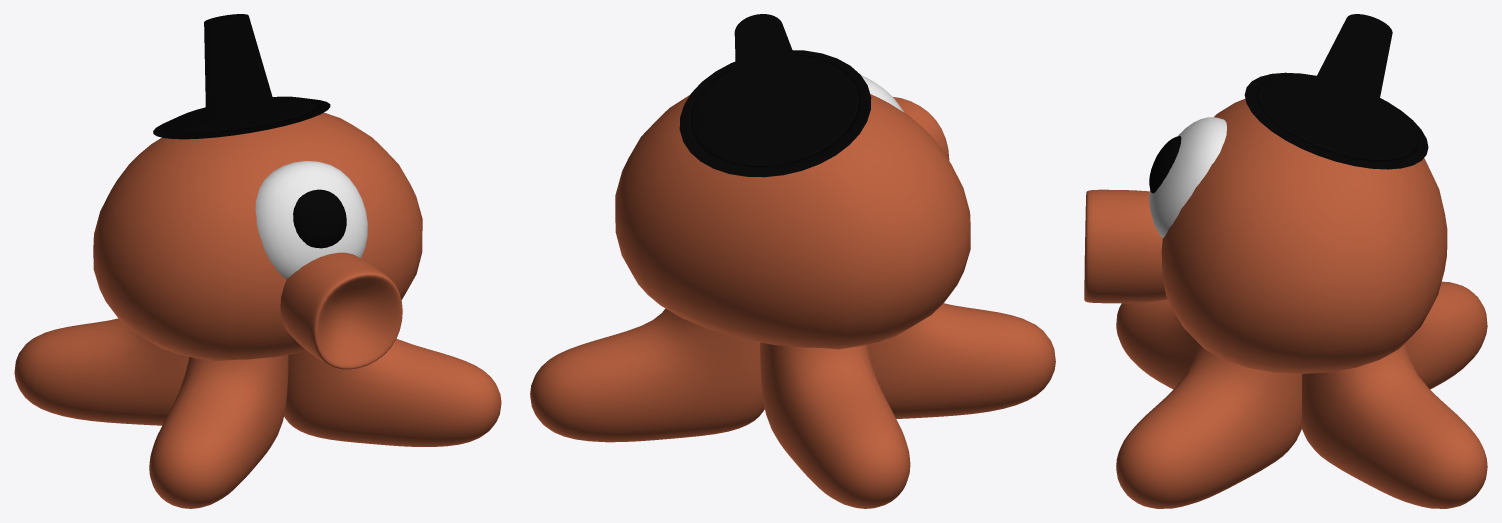
Rendered from alien.fbx.
The picture shows the model from 3 angles, left to right: view 1: azimuth 30°, elevation 25°; view 2: azimuth 150°, elevation 25°; view 3: azimuth 270°, elevation 25°; orthographic projection. The views are drawn at different scales.
Visible parts, largest first — view 1: Cube.003, Cube, Cube.002, Cylinder, Cube.001, Cube.004; view 2: Cube, Cube.003, Cylinder, Cube.002; view 3: Cube, Cube.003, Cylinder, Cube.002, Cube.001, Cube.004.
Boxes of the visible parts, x1=… form: Cube.003: x1=14, y1=318, x2=501, y2=508; Cube: x1=93, y1=112, x2=422, y2=360; Cube.002: x1=280, y1=252, x2=402, y2=369; Cylinder: x1=153, y1=14, x2=330, y2=139; Cube.001: x1=255, y1=161, x2=367, y2=278; Cube.004: x1=293, y1=189, x2=346, y2=248; Cube: x1=615, y1=94, x2=970, y2=349; Cube.003: x1=530, y1=303, x2=1055, y2=508; Cylinder: x1=679, y1=14, x2=871, y2=177; Cube.002: x1=893, y1=97, x2=949, y2=160; Cube: x1=1161, y1=98, x2=1447, y2=373; Cube.003: x1=1116, y1=281, x2=1487, y2=508; Cylinder: x1=1244, y1=14, x2=1428, y2=169; Cube.002: x1=1084, y1=189, x2=1167, y2=303; Cube.001: x1=1149, y1=117, x2=1226, y2=237; Cube.004: x1=1149, y1=136, x2=1181, y2=193.
Size of the model in its own units: 206 by 227 by 197.
